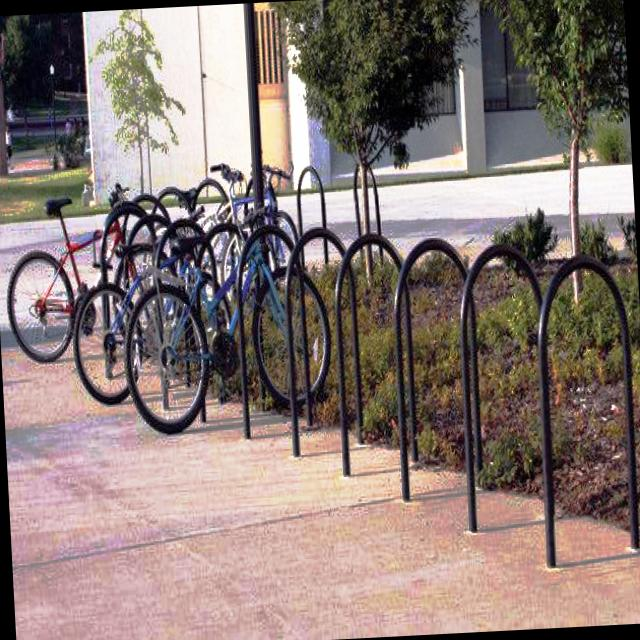bike: (114, 158, 336, 437), (66, 205, 238, 408), (1, 177, 182, 368)
